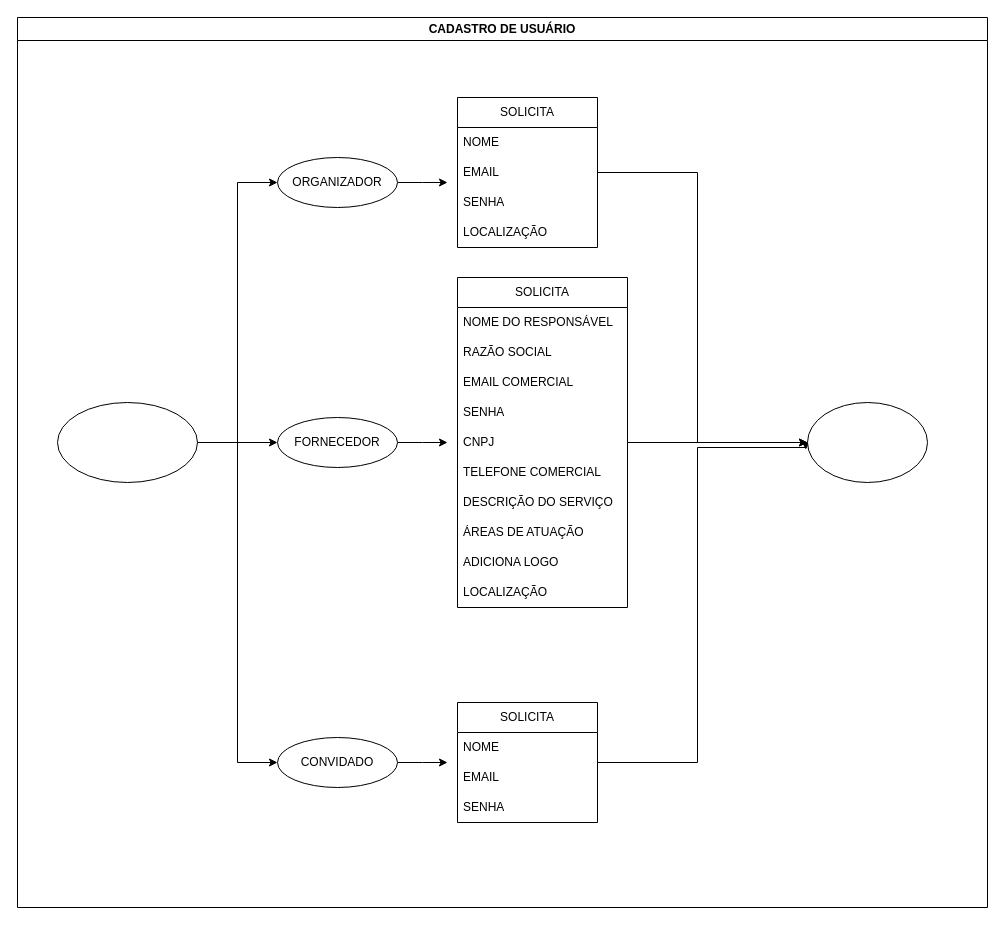
The diagram is 1005 pixels wide and 925 high, and some of its shapes have lost their labels. The shapes that lost their labels are listed below. From the top down, each one's centre as x and y in pixels, then its label:
[127,442]: DEFINE TIPO DE USUÁRIO
[867,442]: REALIZA LOGIN
